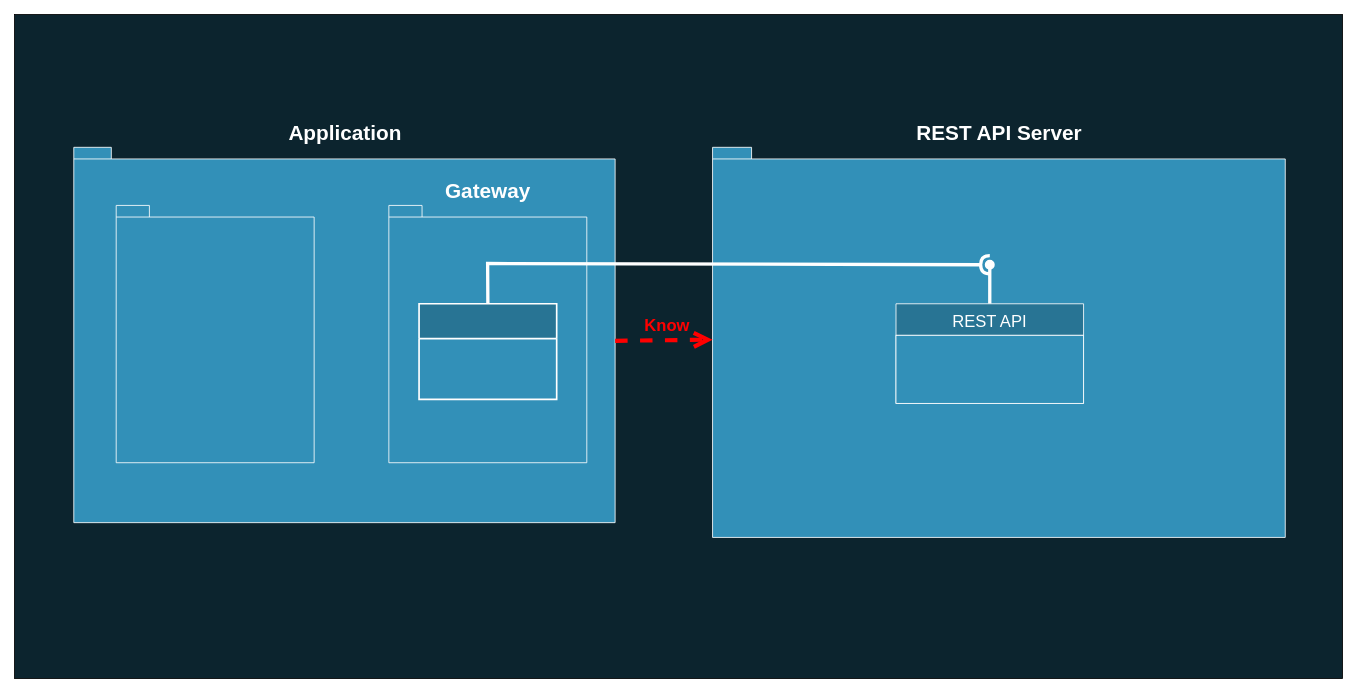
Some shapes in this 1357 by 693 pixel diagram are drawn without their labels. Each missing label, with the centre of its shape:
"Domain" goes at (214,334).
"rest-api-client" goes at (487,351).
